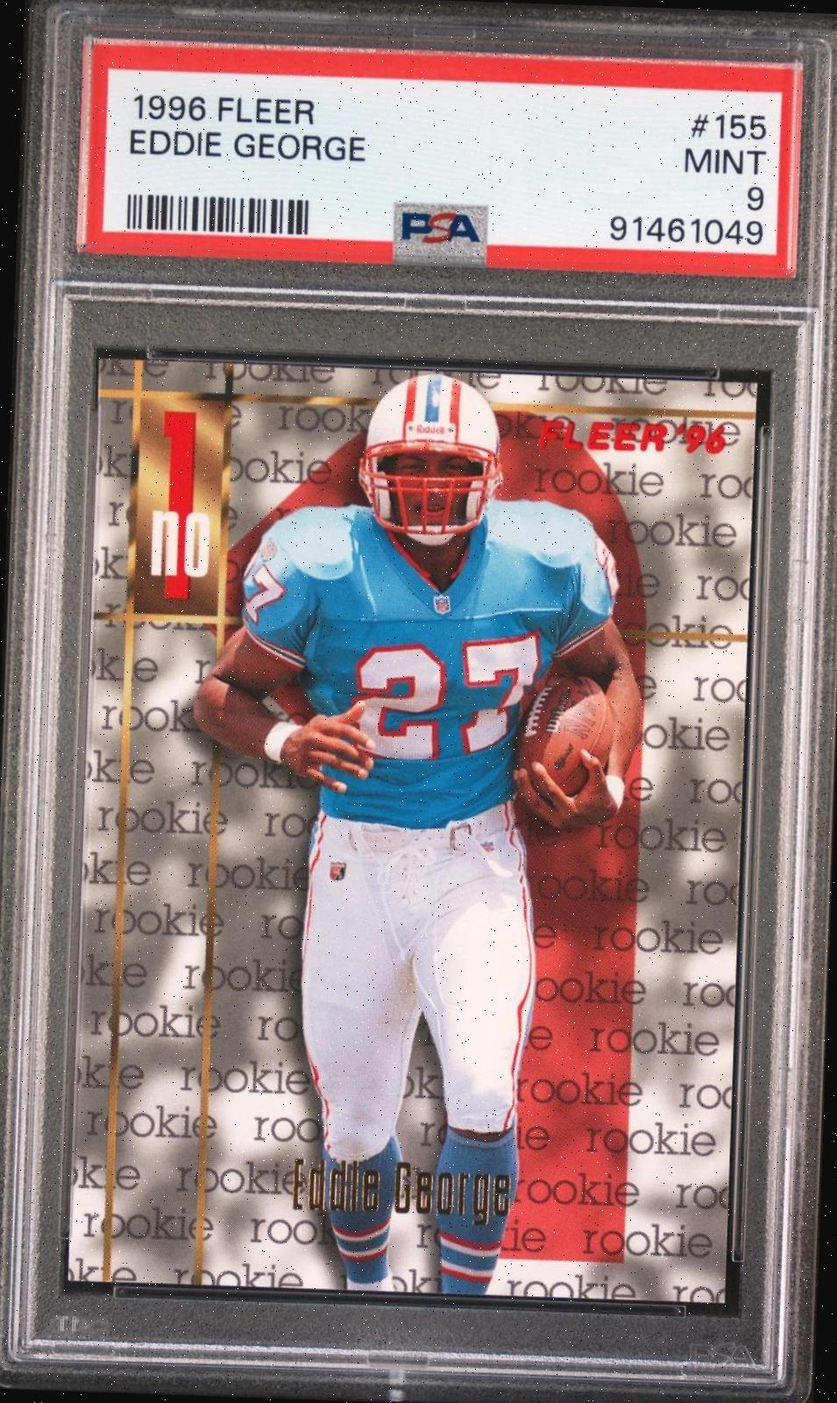card-2UtV: (66, 357, 757, 1304)
